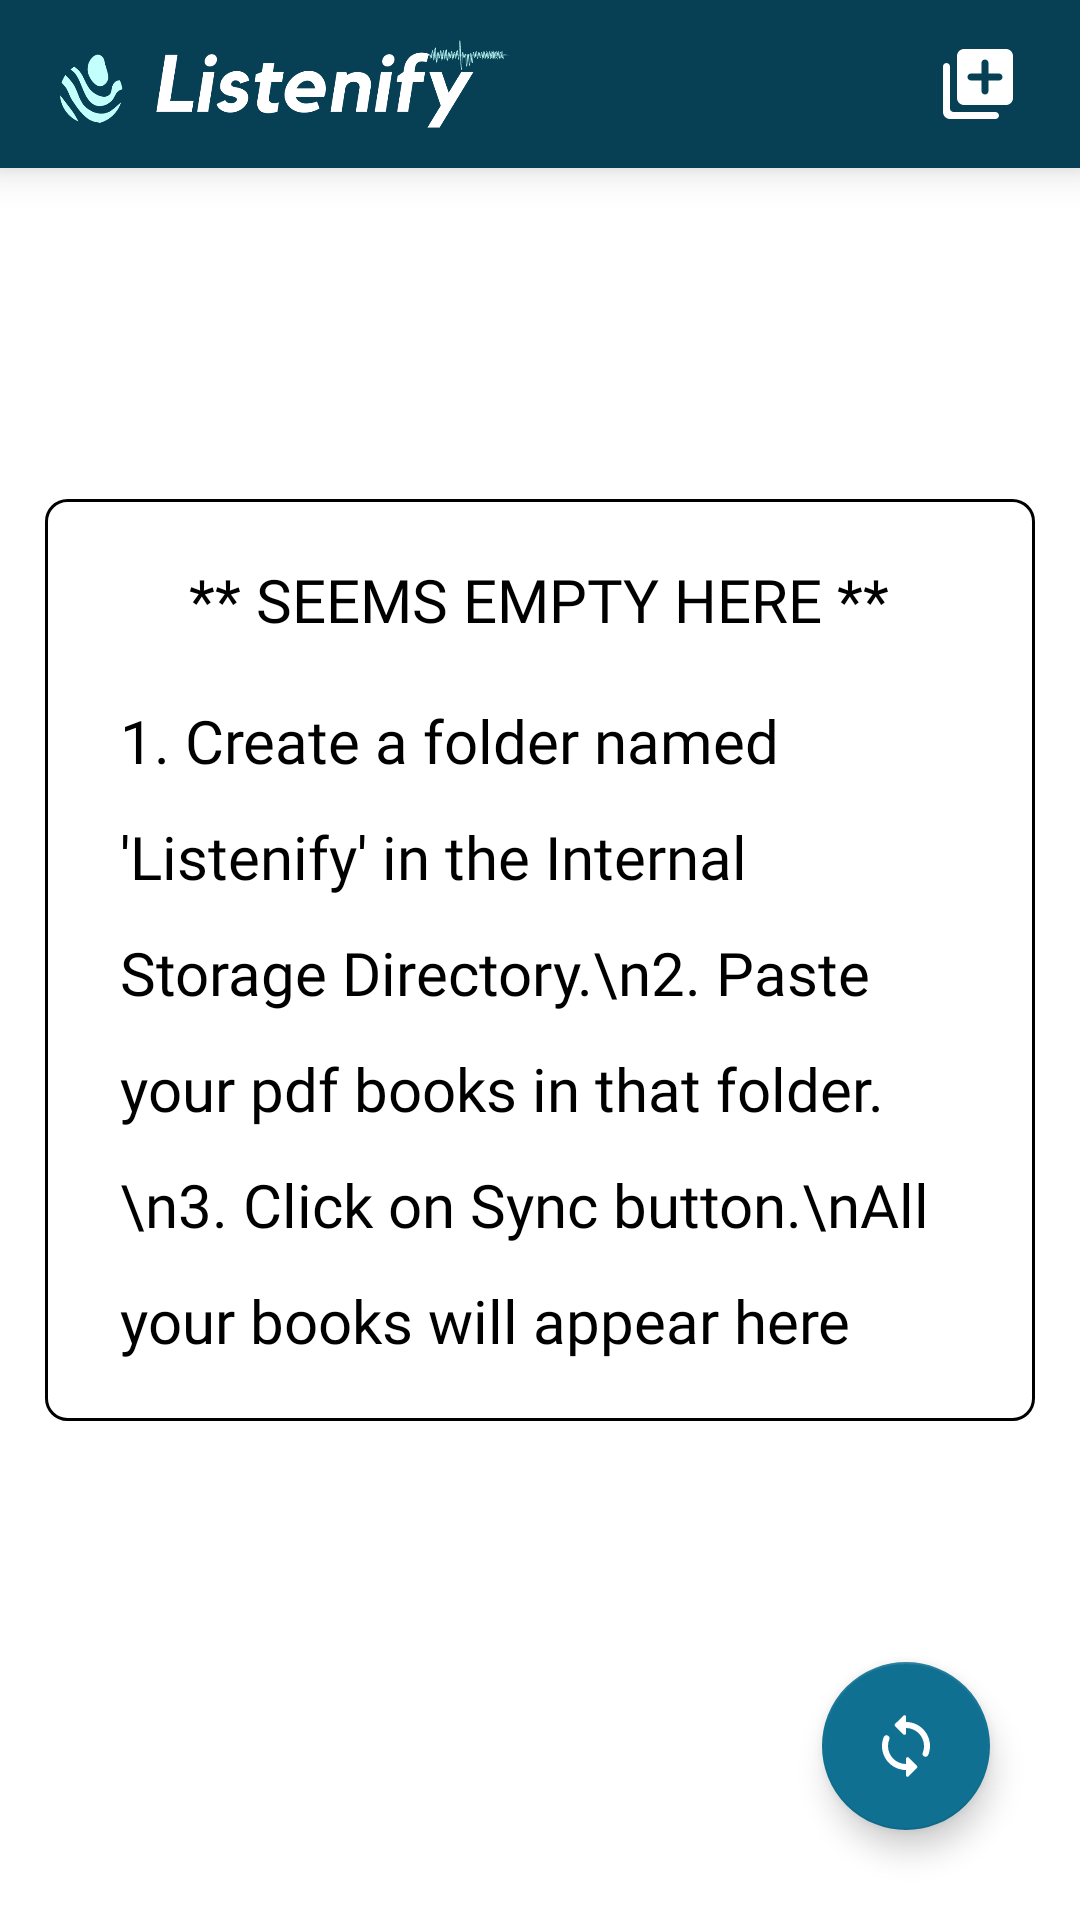

Where to tap for icons on this 1080 x 1920 app screen, as [x,y]:
library add: [978,84]
Sync: [906,1746]
